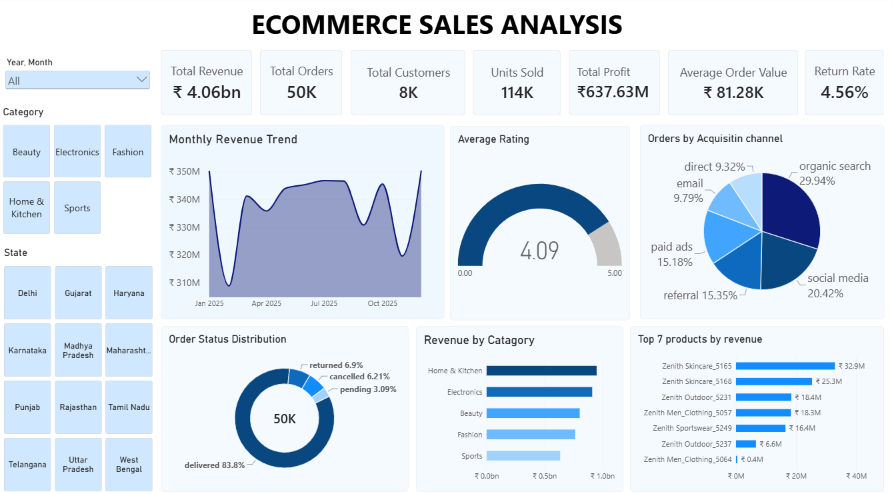

This screenshot's page, from the dashboard's own definition file:
{"tool":"powerbi","page":{"name":"Executive Overview","canvas":[1920,1080],"ordinal":0},"visuals":[{"type":"cardVisual","fields":{"Data":["_Measures.Total Orders"]},"box":[563.1,116.9,176.6,140.8],"z":0},{"type":"cardVisual","fields":{"Data":["_Measures.Total Customers"]},"box":[758.7,116.9,245.7,140.8],"z":1000},{"type":"cardVisual","fields":{"Data":["_Measures.Units Sold"]},"box":[1019.8,115.8,188.5,140.8],"z":2000},{"type":"cardVisual","fields":{"Data":["_Measures.Return Rate"]},"box":[1734.6,116.9,169.4,140.8],"z":3000},{"type":"cardVisual","fields":{"Data":["_Measures.Average Order Value"]},"box":[1438.7,116.9,279.2,140.8],"z":4000},{"type":"cardVisual","fields":{"Data":["_Measures.Total Revenue"]},"box":[350.7,116.9,195.6,140.8],"z":5000},{"type":"lineChart","title":"Monthly Revenue Trend","fields":{"Category":["orders.order_date.Variation.Date Hierarchy.Year","orders.order_date.Variation.Date Hierarchy.Month"],"Y":["_Measures.Total Revenue"]},"box":[350.7,276.8,608.4,417.5],"z":6000},{"type":"clusteredBarChart","title":"Revenue by Catagory","fields":{"Category":["products.category"],"Y":["_Measures.Total Revenue"]},"box":[897.2,708.6,445,356.6],"z":7000},{"type":"donutChart","title":"Order Status Distribution","fields":{"Category":["orders.order_status"],"Y":["CountNonNull(orders.order_id)"]},"box":[349.8,708.6,531.5,356.6],"z":8000},{"type":"clusteredBarChart","title":"Top 7 products by revenue","fields":{"Category":["products.product_name"],"Y":["_Measures.Total Revenue"]},"box":[1358.2,708.6,545.1,356.6],"z":9000},{"type":"textbox","box":[506.5,20.4,872.2,77.2],"z":10000},{"type":"advancedSlicerVisual","title":"Category","fields":{"Values":["products.category"]},"box":[11.4,236.2,320.3,281.6],"z":11000},{"type":"slicer","fields":{"Values":["orders.order_date.Variation.Date Hierarchy.Year","orders.order_date.Variation.Date Hierarchy.Month"]},"box":[11.4,131.7,320.3,104.5],"z":12000},{"type":"advancedSlicerVisual","title":"State","fields":{"Values":["customers.state"]},"box":[11.9,539.2,320.3,524.7],"z":13000},{"type":"pieChart","title":"Orders by Acquisitin channel","fields":{"Category":["customers.acquisition_channel"],"Y":["_Measures.Total Orders"]},"box":[1379.1,276.8,524.9,417.5],"z":14000},{"type":"cardVisual","fields":{"Data":["_Measures.Total Profit"]},"box":[1226.5,115.8,195.3,140.8],"z":15000},{"type":"gauge","title":"Average Rating","fields":{"MaxValue":["Max(products.rating)1"],"Y":["Avg(products.rating)"]},"box":[971.1,279.2,386.5,417.5],"z":16000}]}

Visuals, with their boxes in screenshot pixels (x1, y1, x2, y2), scaled from the page's 1920x1080 canvas onto the 892x493 screenshot:
cardVisual - _Measures.Total Orders: 262,53,344,118
cardVisual - _Measures.Total Customers: 352,53,467,118
cardVisual - _Measures.Units Sold: 474,53,561,117
cardVisual - _Measures.Return Rate: 806,53,885,118
cardVisual - _Measures.Average Order Value: 668,53,798,118
cardVisual - _Measures.Total Revenue: 163,53,254,118
"Monthly Revenue Trend" lineChart: 163,126,446,317
"Revenue by Catagory" clusteredBarChart: 417,323,624,486
"Order Status Distribution" donutChart: 163,323,409,486
"Top 7 products by revenue" clusteredBarChart: 631,323,884,486
textbox: 235,9,641,45
"Category" advancedSlicerVisual: 5,108,154,236
slicer - orders.order_date.Variation.Date Hierarchy.Year x orders.order_date.Variation.Date Hierarchy.Month: 5,60,154,108
"State" advancedSlicerVisual: 6,246,154,486
"Orders by Acquisitin channel" pieChart: 641,126,885,317
cardVisual - _Measures.Total Profit: 570,53,661,117
"Average Rating" gauge: 451,127,631,318
